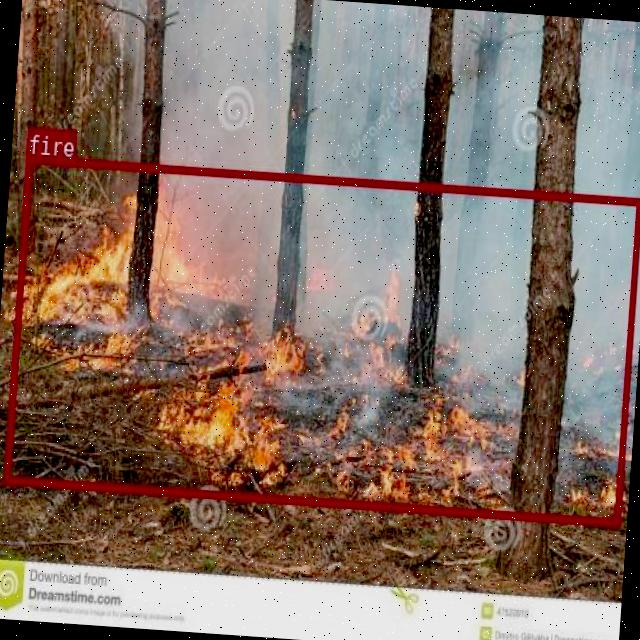fire: (3, 154, 640, 524)
